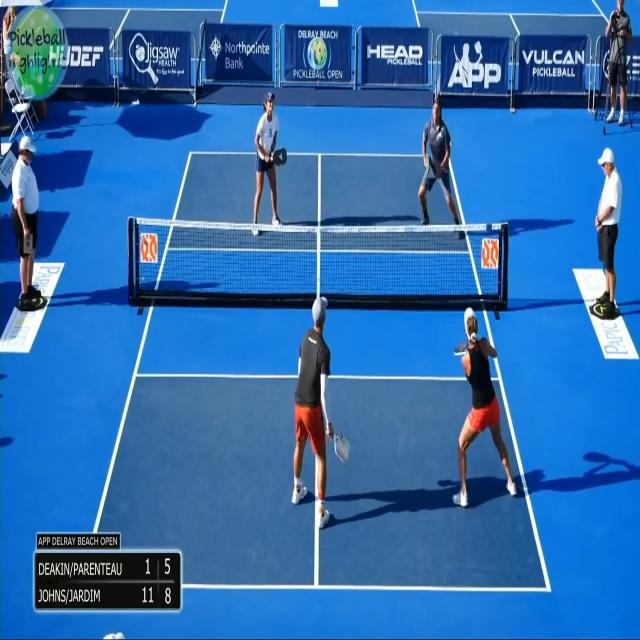Court: (83, 151, 550, 587)
